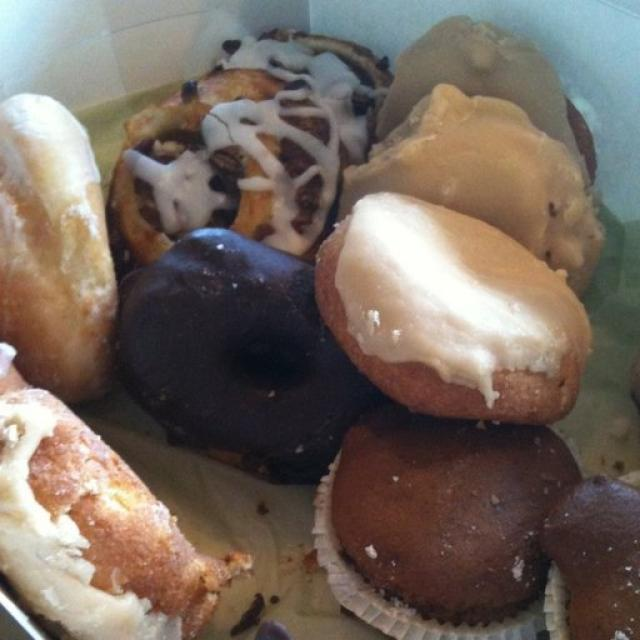Donuts: (5, 24, 640, 640)
